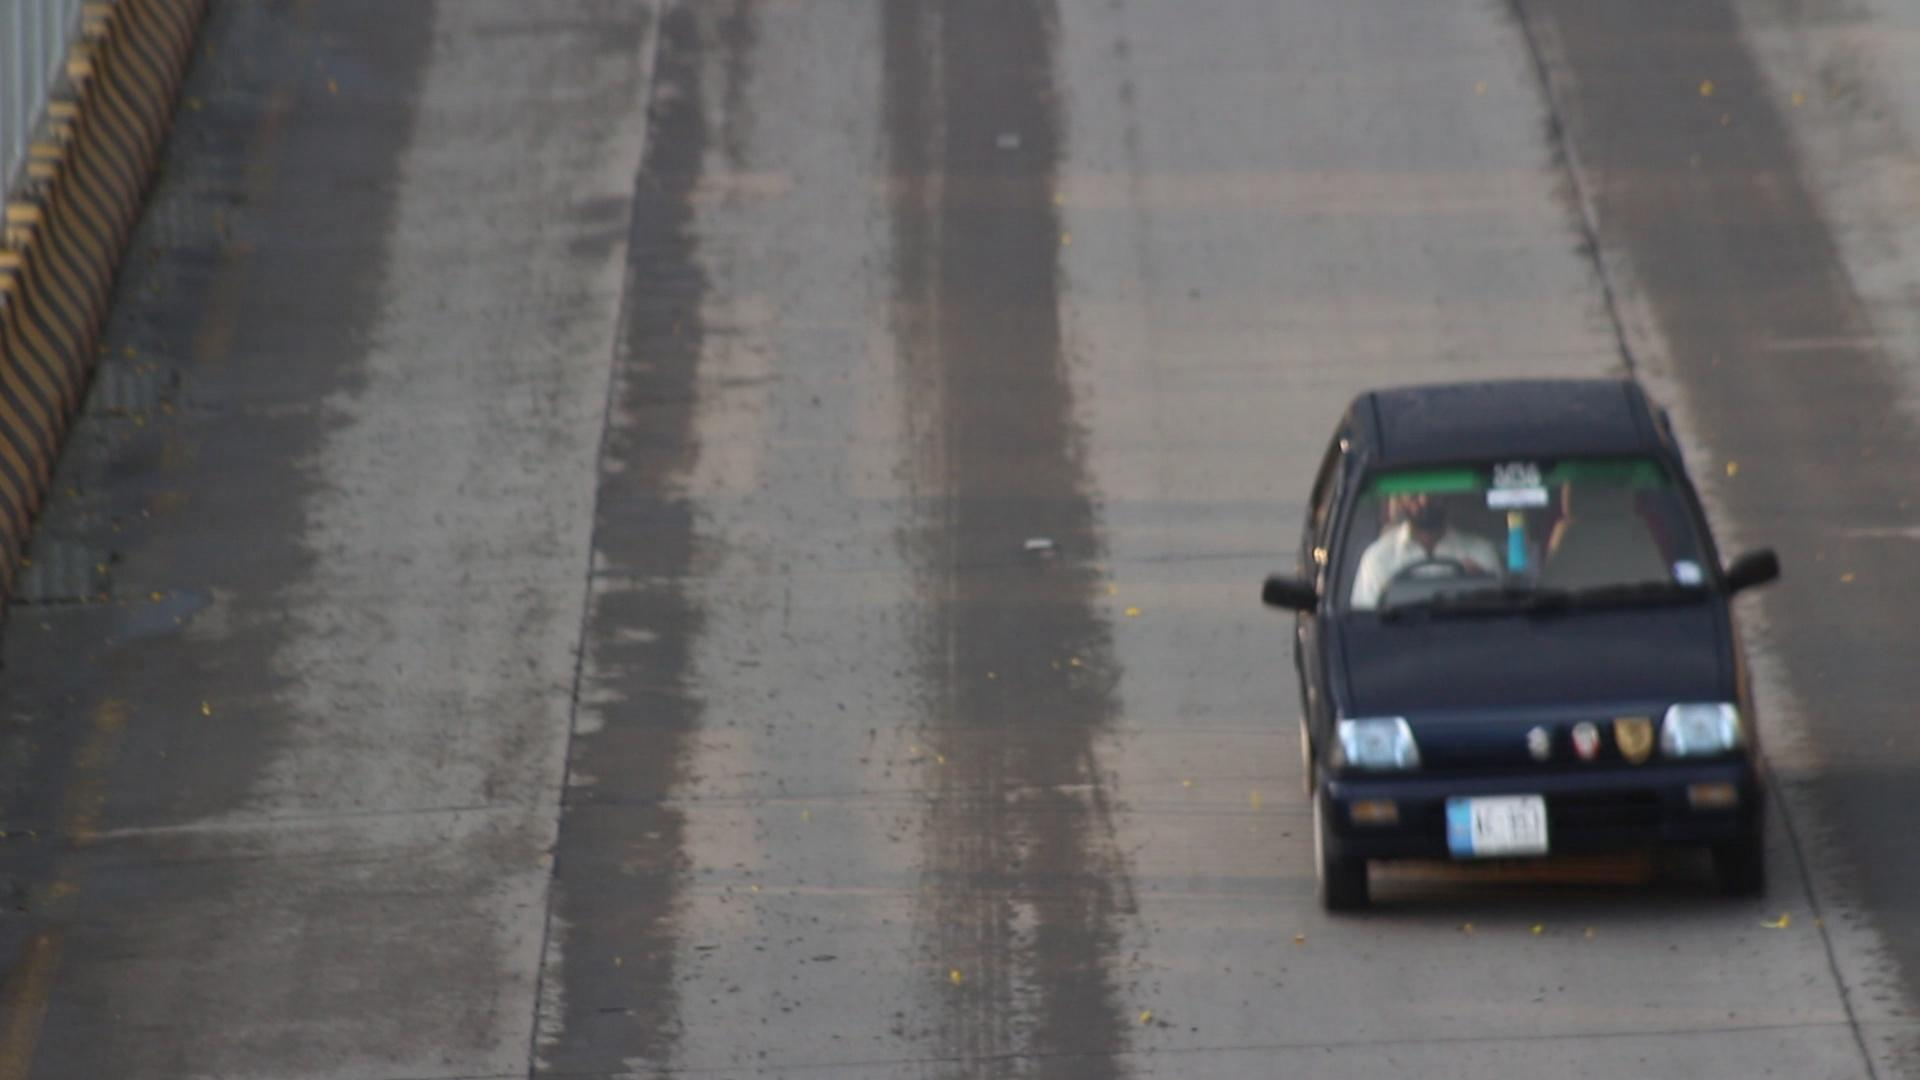windshield: (1313, 430, 1737, 626)
